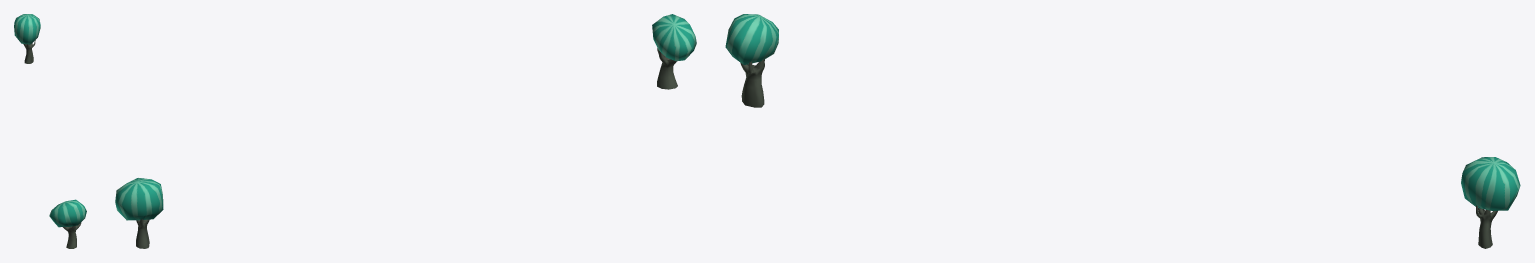
Rendered from treeE.fbx.
3 views of the same model, side by side, from view 1: azimuth 30°, elevation 25°; view 2: azimuth 150°, elevation 25°; view 3: azimuth 270°, elevation 25° (orthographic). The views are drawn at different scales.
Parts seen in each view (by area): view 1: treeE; view 2: treeE; view 3: treeE.
Boxes of the visible parts, bbox=[...] form: treeE: bbox=[14, 14, 86, 248]; treeE: bbox=[115, 14, 696, 248]; treeE: bbox=[725, 14, 1520, 248].
Size of the model in its own units: 946 by 224 by 1880.
